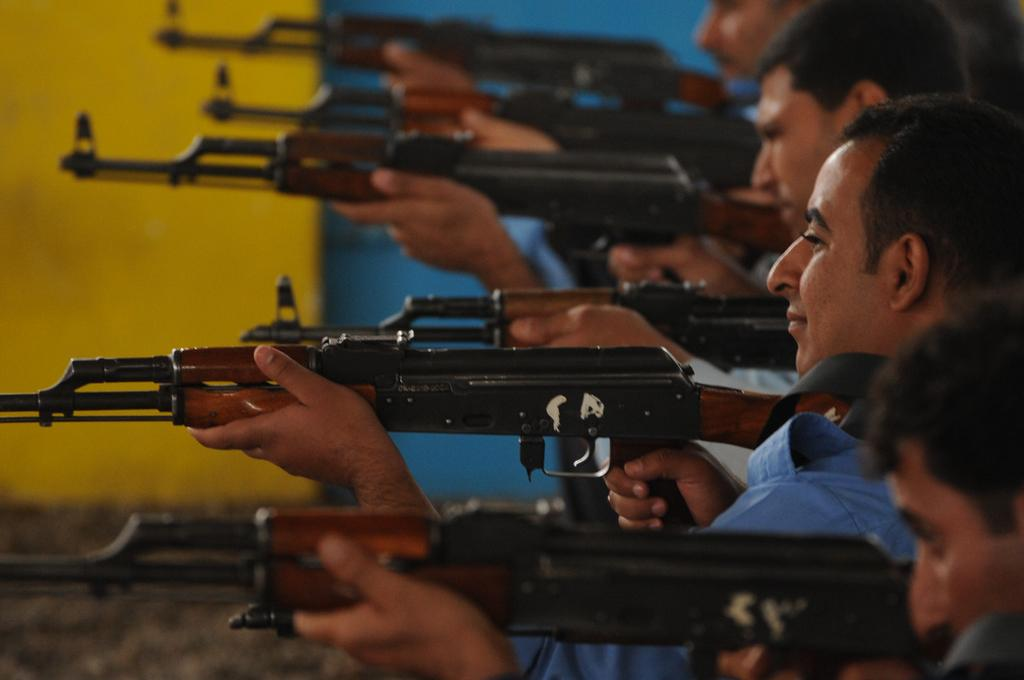Rifle: (0, 503, 952, 679), (0, 321, 875, 491), (48, 100, 800, 260), (149, 0, 739, 92)
